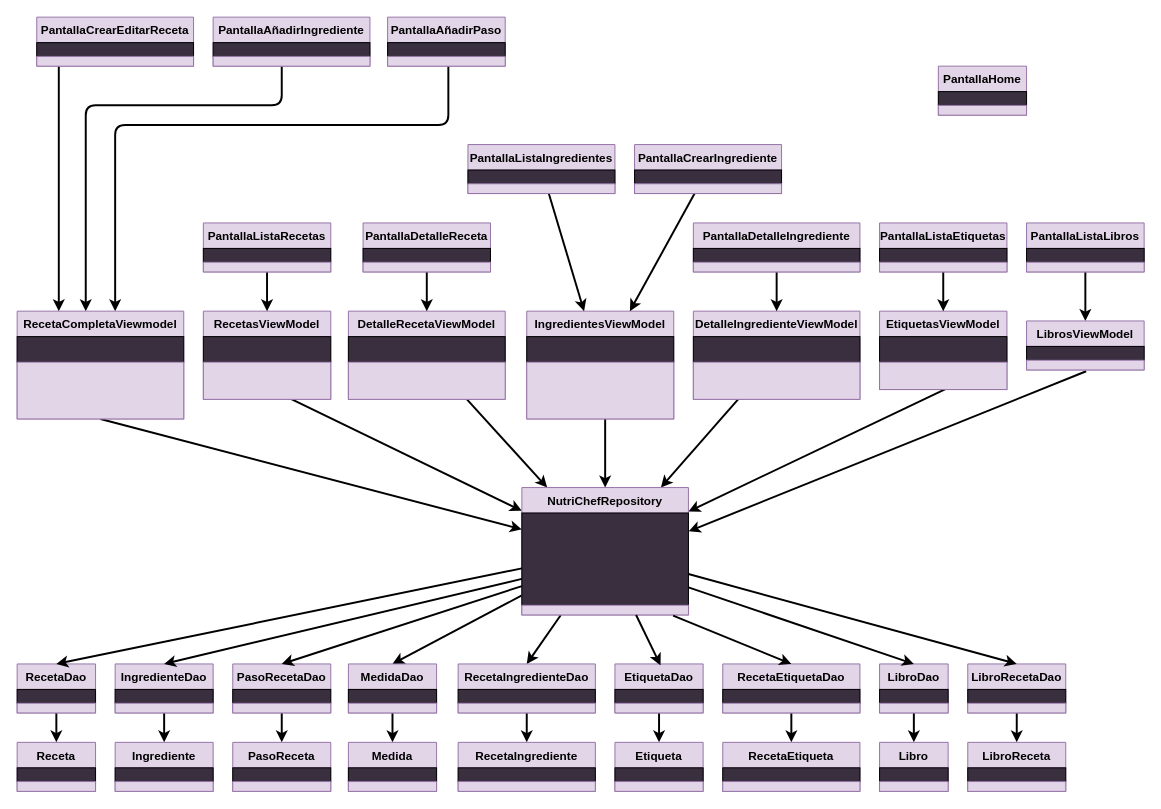
Some shapes in this 1161 by 809 pixel diagram are drawn without their labels. Here are the shapes that lost their labels. From the top down, the centre of each, then its label:
(100,349): +uiState: StateFlow
(266,349): +recetas: StateFlow
(426,349): +receta: StateFlow
(600,349): +ingredientes: StateFlow
(776,349): +ingrediente: StateFlow
(943,349): +etiquetas: StateFlow
(100,390): +guardarReceta() +resetearEstado() +cargarRecetaParaEdicion()
(266,380): +buscar() +cargarTodas()
(426,380): +cargarReceta() +eliminar()
(600,390): +guardar() +eliminar() +buscar()
(776,380): +cargar() +eliminar()
(943,375): +cargarTodas()
(604,558): +recetaDao +ingredienteDao +pasoDao +medidaDao +etiquetaDao +libroDao
